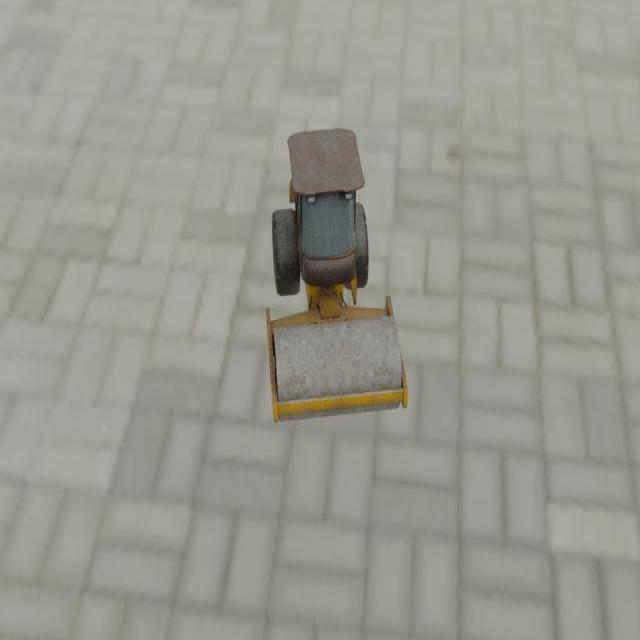Roller: (265, 126, 408, 422)
